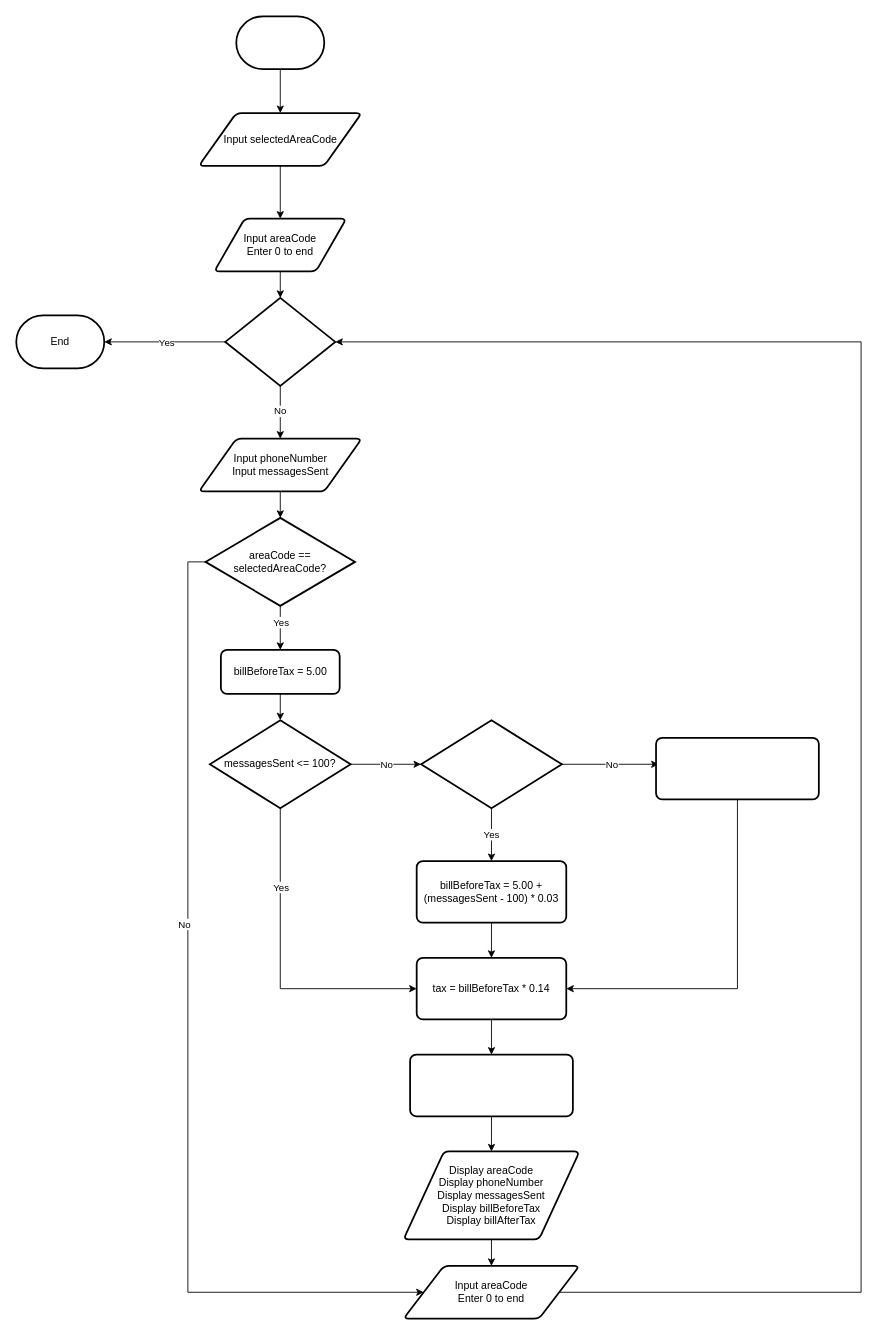
The diagram is 884 pixels wide and 1334 high, and some of its shapes have lost their labels. The box of each missing label's shape, as (x1, y1, x2, y2) in pixels:
areaCode == 0?: (224, 297, 336, 386)
billAfterTax = billBeforeTax + tax: (409, 1053, 573, 1117)
billBeforeTax = 5.00 + (200 * 0.03) + (messagesSent - 300) * 0.02: (655, 737, 819, 800)
messagesSent <= 300?: (420, 719, 562, 809)
Start: (235, 15, 325, 70)
